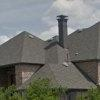Chimney: (52, 7, 83, 58)
